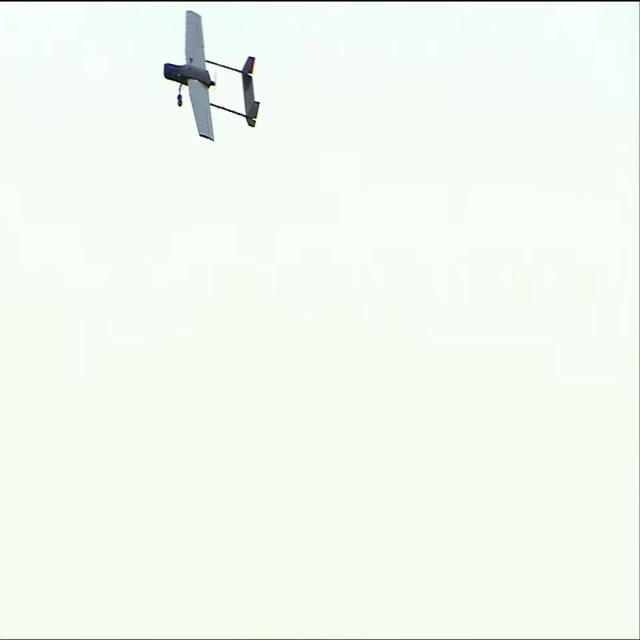iha: (194, 0, 229, 72)
